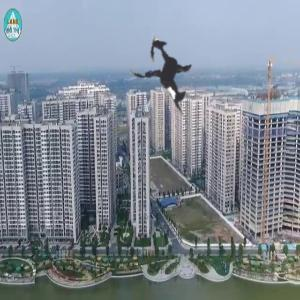drone: (99, 11, 234, 146)
